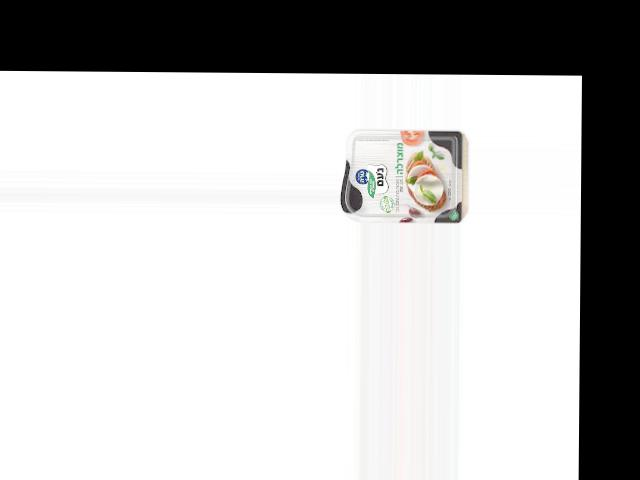cheese: (342, 128, 463, 223)
